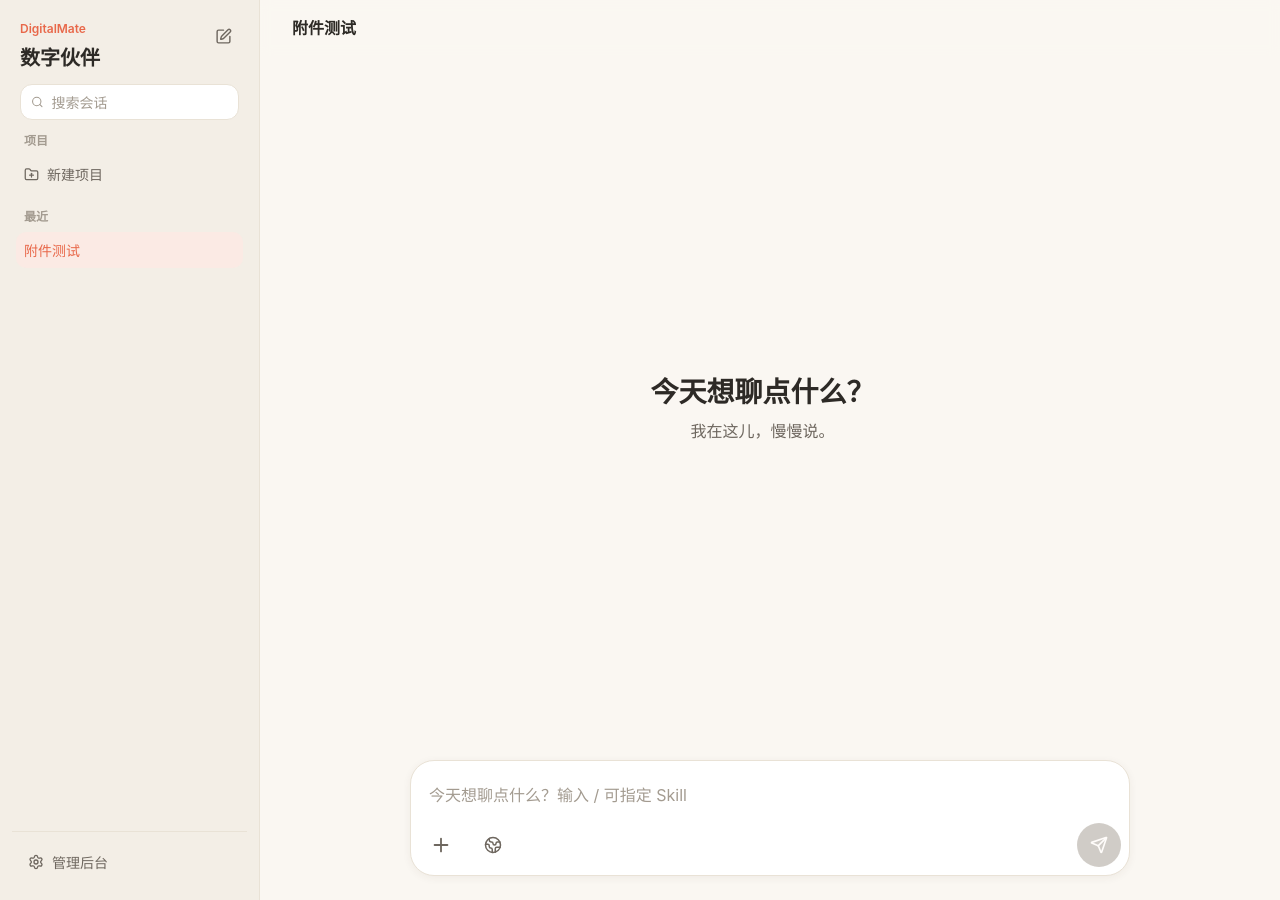
Test case: ChatShell attachment submit › keeps the original turn when degraded done has no durable assistant
Type "降级也没有落库" into the text box named "输入消息" at (770, 796), box [419,775,1121,817]
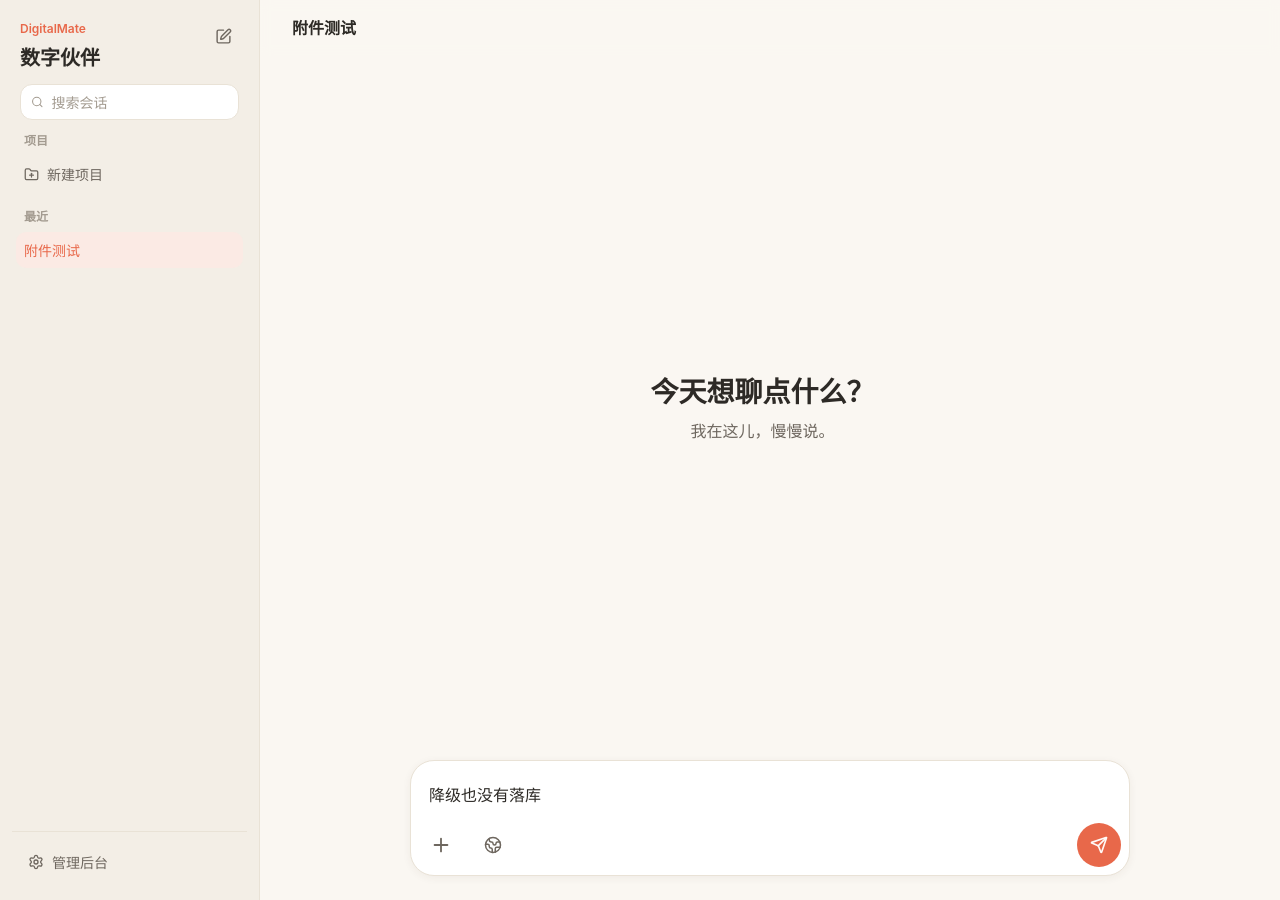
Click the button named "发送" at (1099, 845), box [1077,823,1121,867]
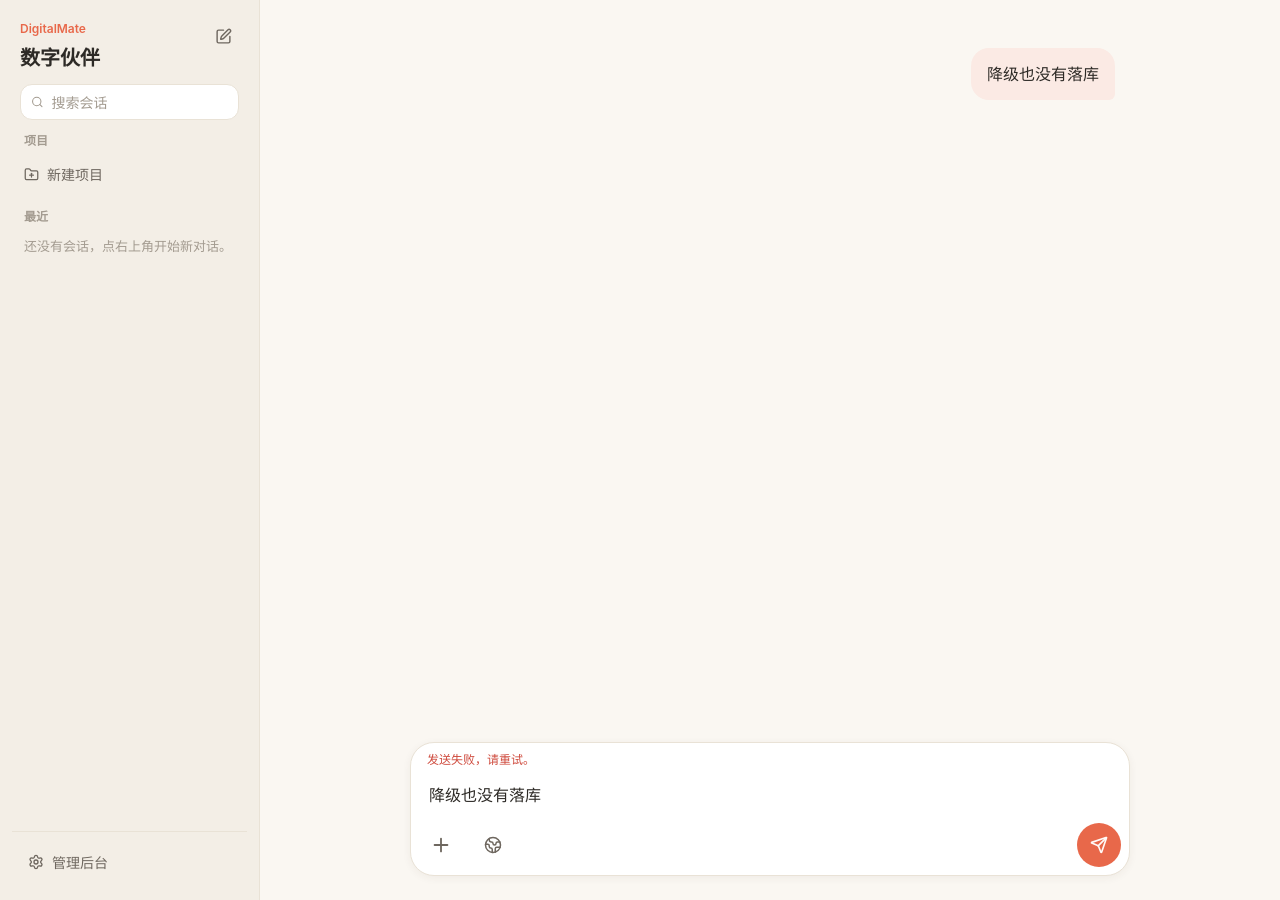
Check: the text "发送失败，请重试。" is shown, box [427,752,535,767]
